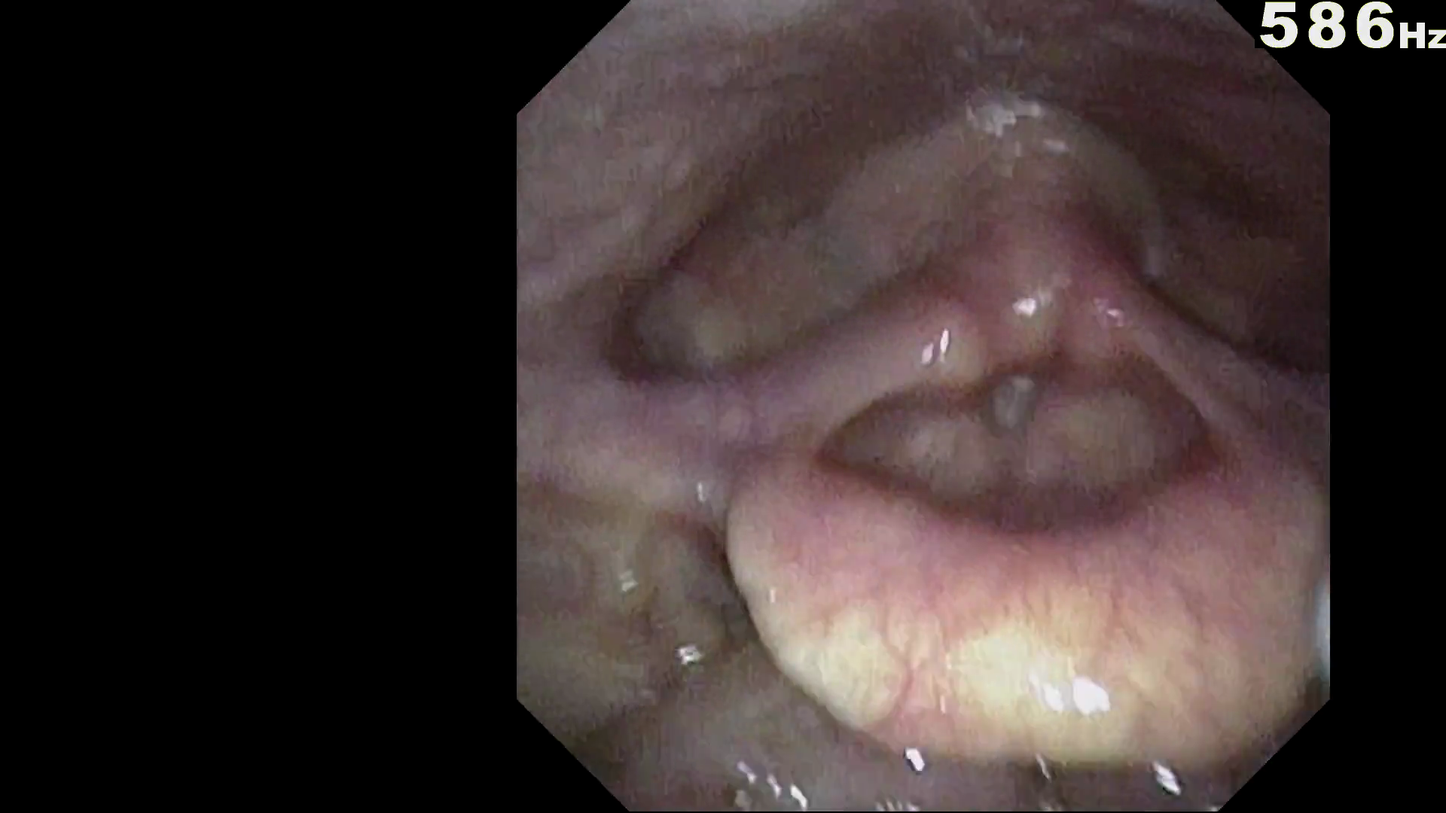epiglottis: (744, 484, 1271, 664)
